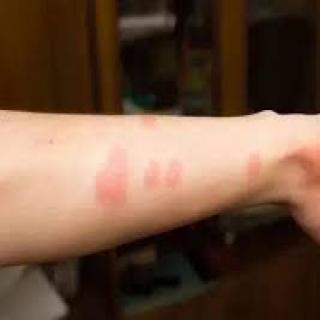urticaria: (84, 134, 136, 207), (147, 149, 186, 199), (243, 149, 268, 189), (141, 117, 158, 126)
